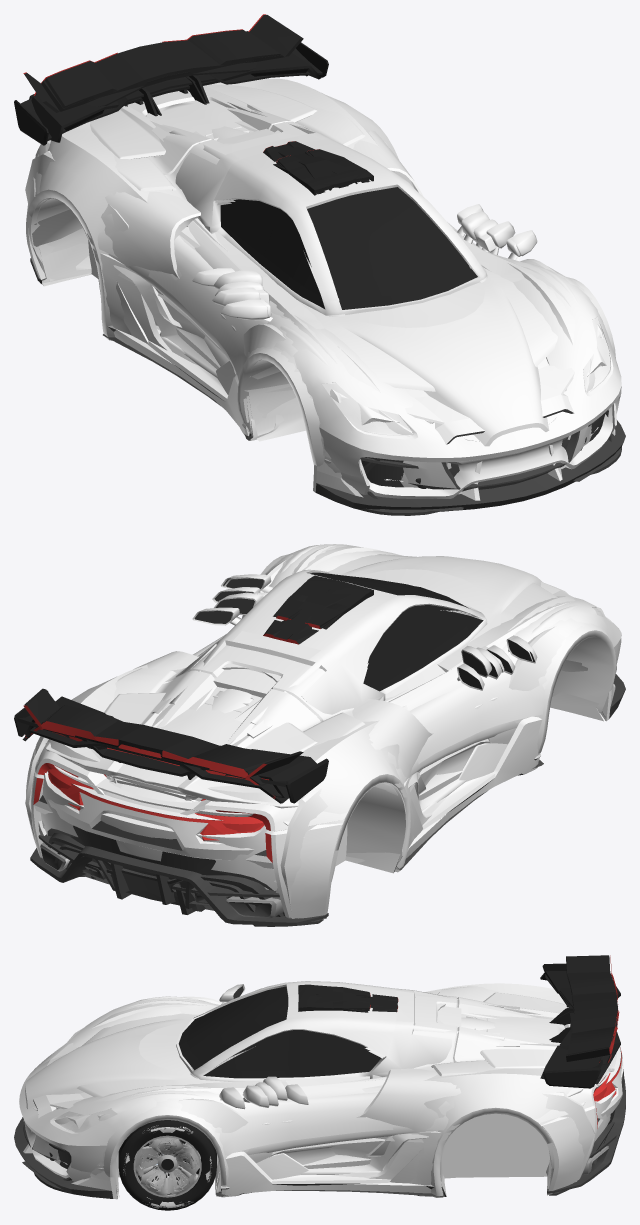
File: Cars.fbx
3 views of the same model, one above another, from view 1: azimuth 30°, elevation 25°; view 2: azimuth 150°, elevation 25°; view 3: azimuth 270°, elevation 25° (orthographic). The views are drawn at different scales.
Visible parts, largest first — view 1: C7.Body.002, C7.BodyTop, C5.Body.002, C1.Body.002, C3.Body.002, C4.Body.002, C6.Body.002, C2.Body.002, C7.Body.001, C7.BodyTop.001, C1.RearSpoiler.003, C1.RearSpoiler.004 (+8 smaller); view 2: C1.Body.002, C3.Body.002, C7.BodyTop, C7.Body.002, C4.Body.002, C6.Body.002, C5.Body.002, C6.Body.001, C2.Body.002, C5.Body.001, C1.RearSpoiler.004, C1.RearSpoiler.003 (+17 smaller); view 3: C7.Body.002, C7.BodyTop, C3.Body.002, C1.Body.002, C4.Body.002, C5.Body.002, C6.Body.002, C2.Body.002, C1.Wheel.001, C7.BodyTop.001, C6.Body.001, C1.RearSpoiler.004 (+16 smaller).
Part boxes in pixels (bbox=[...]): C7.Body.002: bbox=[32, 130, 615, 500]; C7.BodyTop: bbox=[169, 111, 477, 309]; C5.Body.002: bbox=[176, 126, 621, 498]; C1.Body.002: bbox=[27, 78, 615, 487]; C3.Body.002: bbox=[26, 121, 578, 463]; C4.Body.002: bbox=[45, 84, 496, 441]; C6.Body.002: bbox=[25, 129, 616, 494]; C2.Body.002: bbox=[27, 107, 606, 494]; C7.Body.001: bbox=[315, 409, 625, 511]; C7.BodyTop.001: bbox=[198, 200, 487, 315]; C1.RearSpoiler.003: bbox=[45, 40, 281, 108]; C1.RearSpoiler.004: bbox=[47, 30, 279, 105]; C1.Body.002: bbox=[35, 545, 616, 882]; C3.Body.002: bbox=[26, 551, 578, 919]; C7.BodyTop: bbox=[169, 569, 484, 724]; C7.Body.002: bbox=[36, 546, 615, 853]; C4.Body.002: bbox=[45, 592, 604, 872]; C6.Body.002: bbox=[25, 560, 616, 918]; C5.Body.002: bbox=[40, 544, 621, 890]; C6.Body.001: bbox=[30, 578, 603, 925]; C2.Body.002: bbox=[38, 544, 605, 899]; C5.Body.001: bbox=[47, 611, 605, 916]; C1.RearSpoiler.004: bbox=[46, 704, 279, 775]; C1.RearSpoiler.003: bbox=[45, 705, 280, 771]; C7.Body.002: bbox=[23, 984, 585, 1199]; C7.BodyTop: bbox=[186, 981, 504, 1076]; C3.Body.002: bbox=[80, 988, 614, 1197]; C1.Body.002: bbox=[54, 983, 577, 1197]; C4.Body.002: bbox=[116, 992, 583, 1198]; C5.Body.002: bbox=[19, 998, 623, 1191]; C6.Body.002: bbox=[32, 985, 622, 1192]; C2.Body.002: bbox=[32, 986, 554, 1188]; C1.Wheel.001: bbox=[118, 1120, 216, 1210]; C7.BodyTop.001: bbox=[176, 1014, 387, 1081]; C6.Body.001: bbox=[22, 986, 625, 1196]; C1.RearSpoiler.004: bbox=[567, 972, 617, 1054].
Size of the model in its own units: 211 by 129 by 454.
